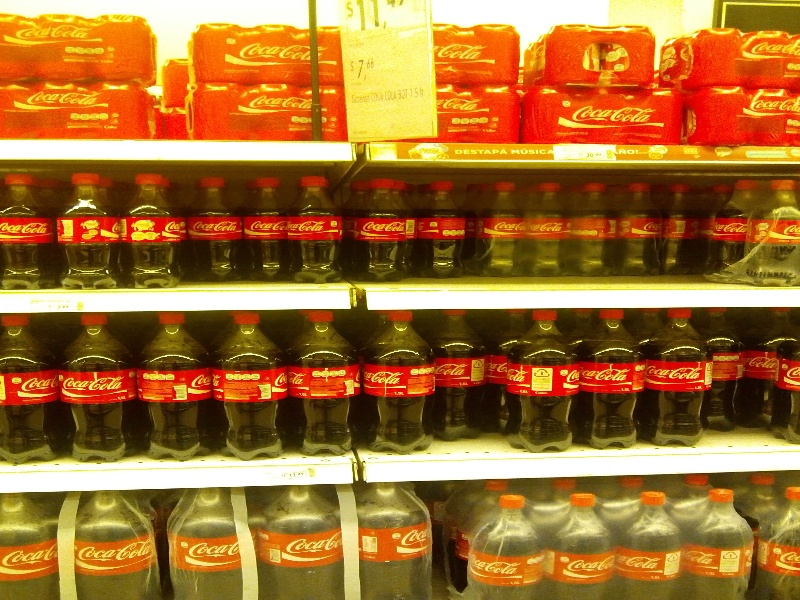lemonade: (135, 314, 214, 462), (287, 313, 364, 456), (59, 318, 130, 464), (215, 313, 283, 460), (503, 313, 574, 451), (369, 313, 437, 456), (1, 315, 64, 469), (578, 310, 645, 454), (643, 307, 708, 451), (56, 170, 122, 290), (121, 172, 182, 292), (432, 312, 487, 440), (241, 173, 295, 287), (358, 174, 412, 285), (295, 176, 346, 287)
